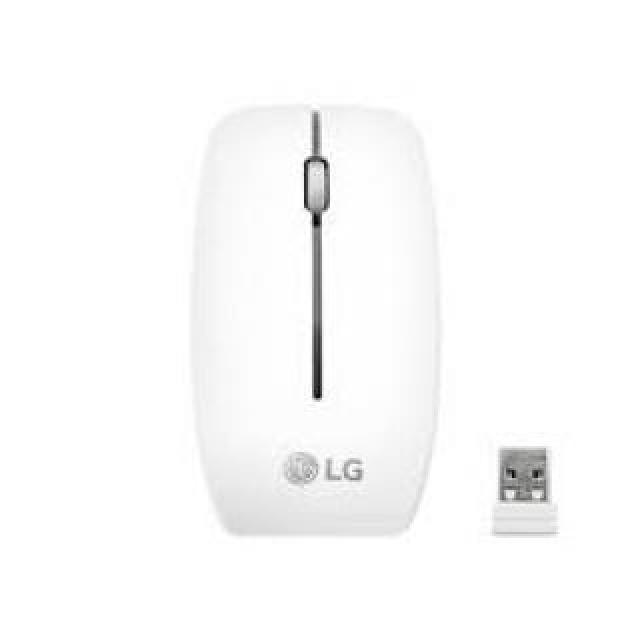mouse: (175, 41, 473, 576)
